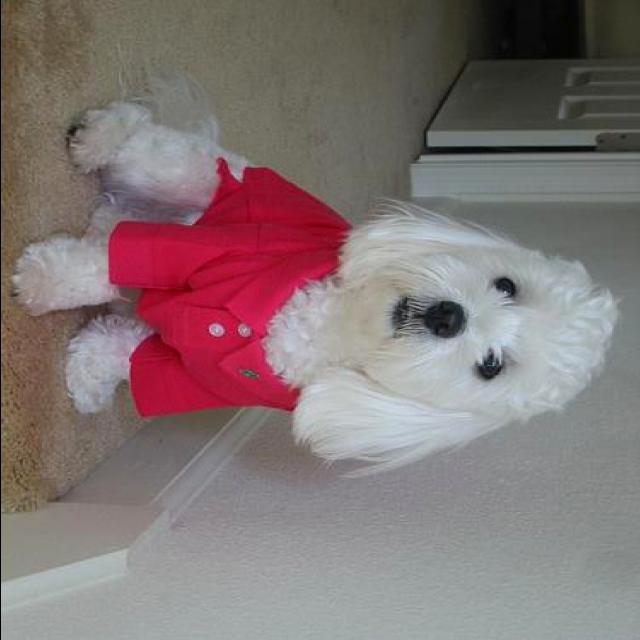maltese_dog: (5, 45, 621, 480)
